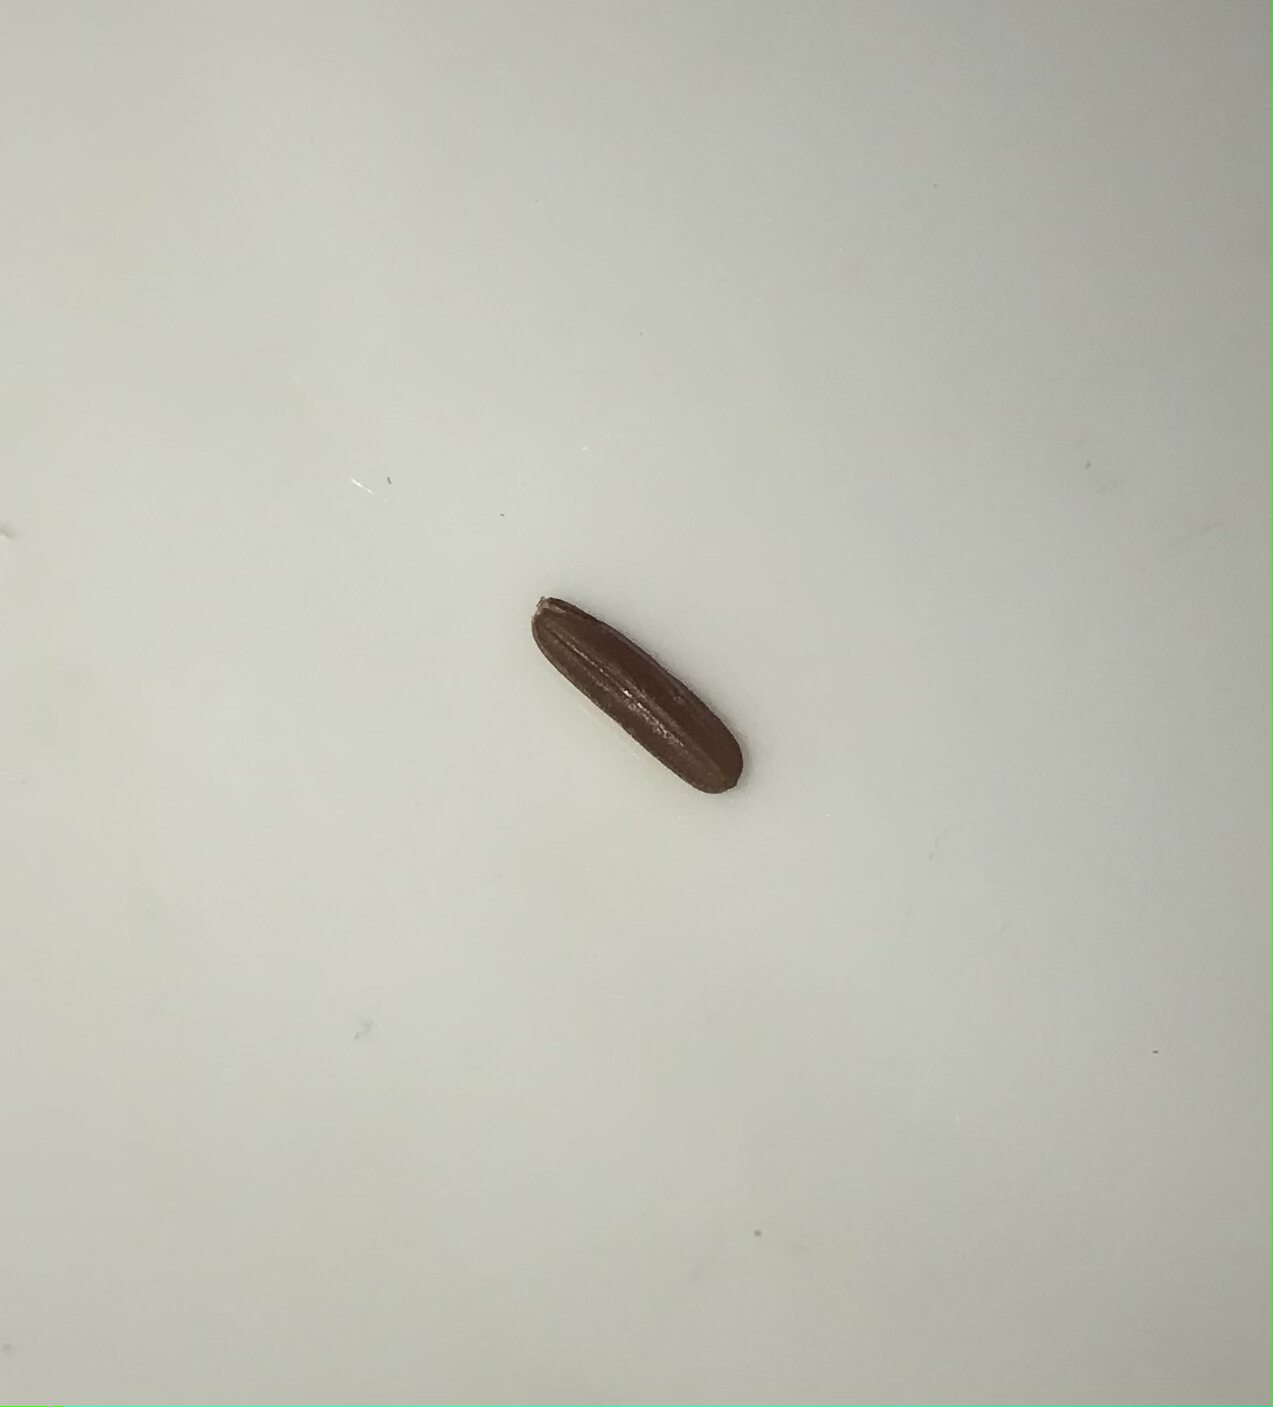Gao Huyet Rong: (523, 583, 746, 813)
